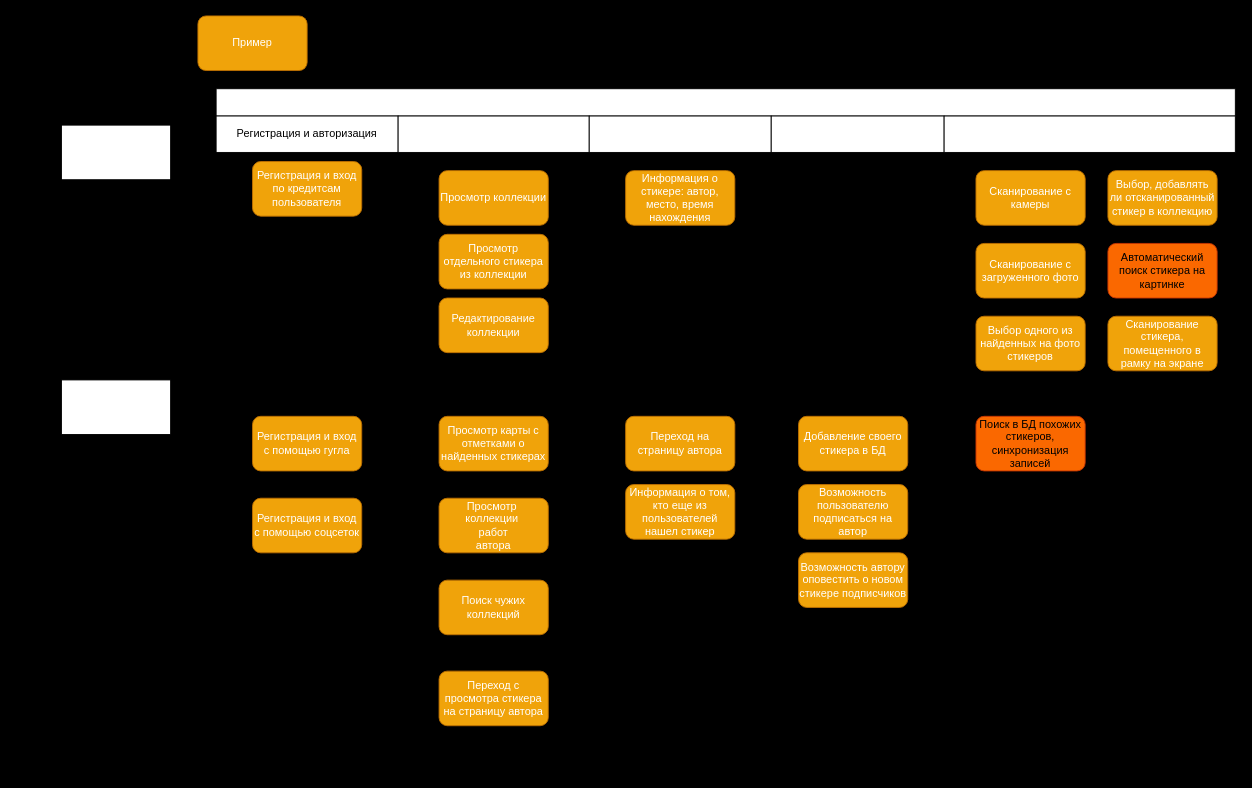
Some shapes in this 1252 by 788 pixel diagram are drawn without their labels. The box of each missing label's shape, as (x1, y1, x2, y2) in pixels:
User Story Mapping: (215, 88, 1235, 116)
Кабинет автора: (770, 115, 944, 152)
Коллекции: (397, 115, 589, 152)
Сделать обязательно: (61, 124, 171, 180)
Сканирование: (943, 115, 1235, 152)
Страница просмотра стикера: (588, 115, 771, 152)
Хорошо бы сделать: (61, 379, 171, 435)
